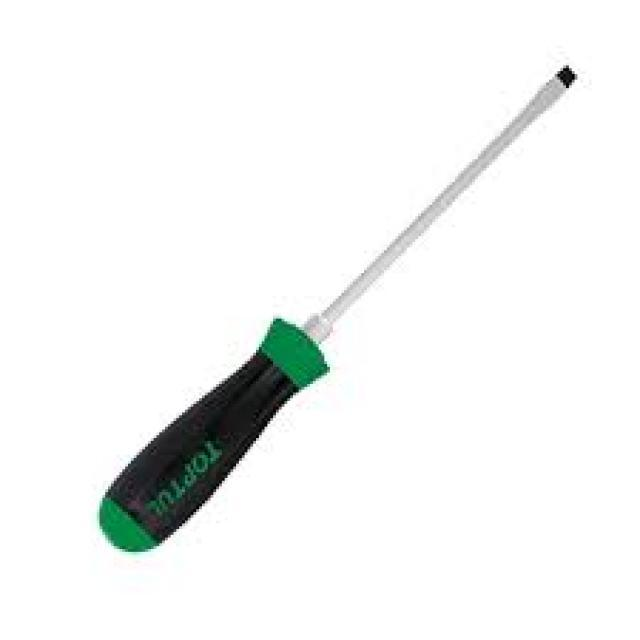screwdriver: (94, 64, 583, 556)
